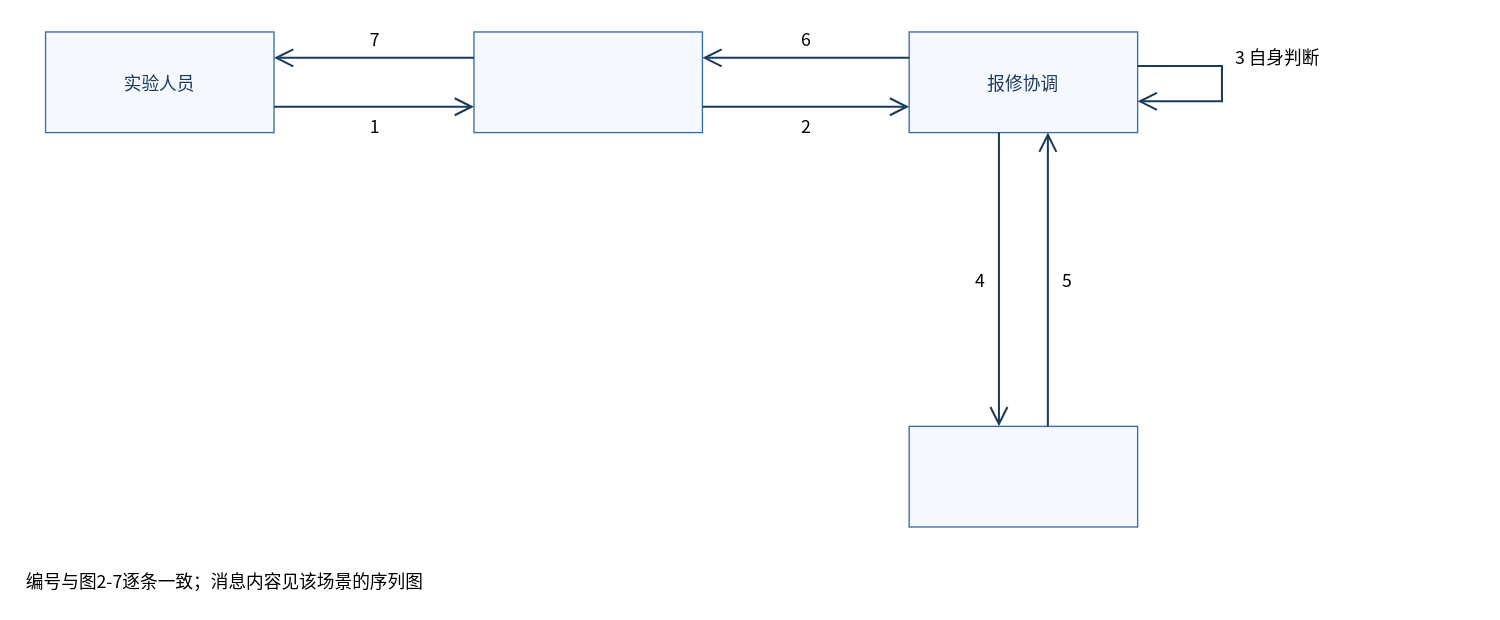
The diagram is 1500 pixels wide and 620 high, and some of its shapes have lost their labels. Each missing label, with the centre of its shape:
"交互入口" belongs at point 587,82.
"故障工单" belongs at point 1023,476.
